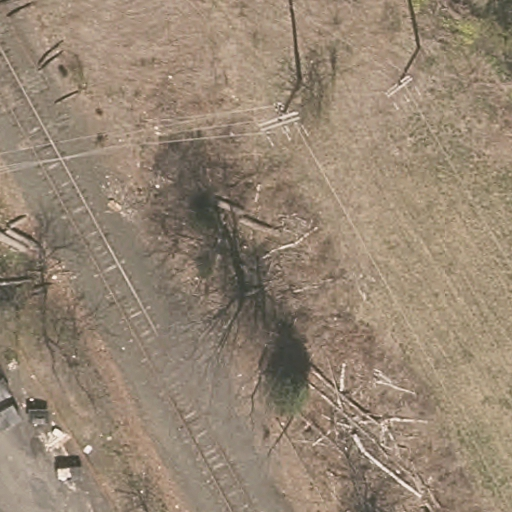DT: (259, 108, 300, 134)
